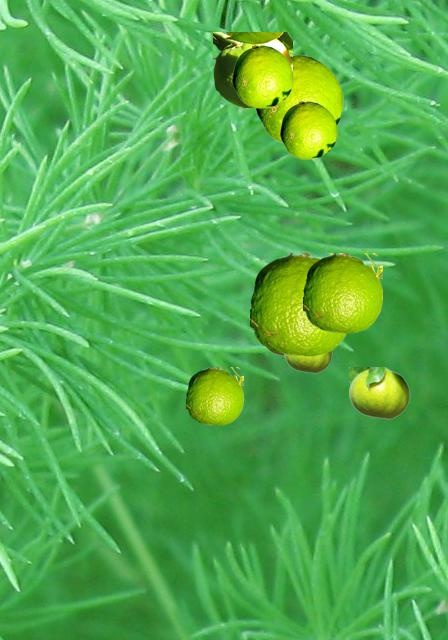dalandan: (250, 253, 347, 355), (255, 54, 342, 143), (303, 253, 381, 332), (213, 32, 291, 106), (232, 45, 292, 107), (280, 101, 336, 158), (186, 367, 242, 424), (349, 367, 409, 418), (284, 352, 331, 372), (266, 348, 283, 356)
